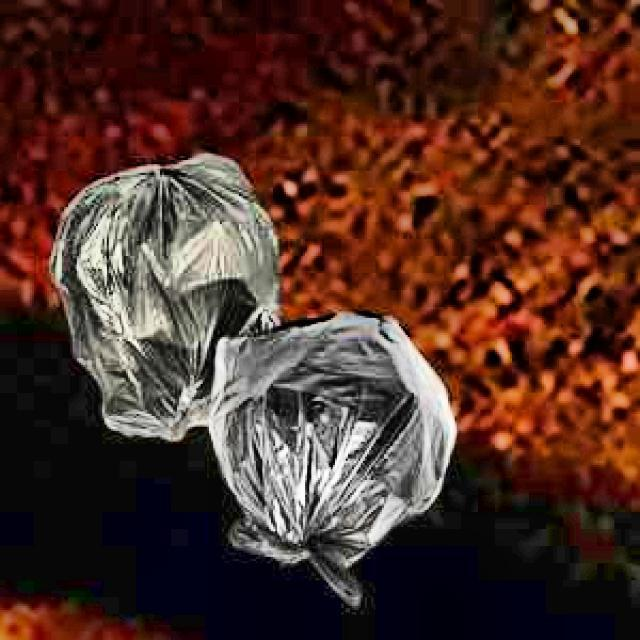Trashbag: (207, 311, 464, 606), (42, 145, 286, 443)
